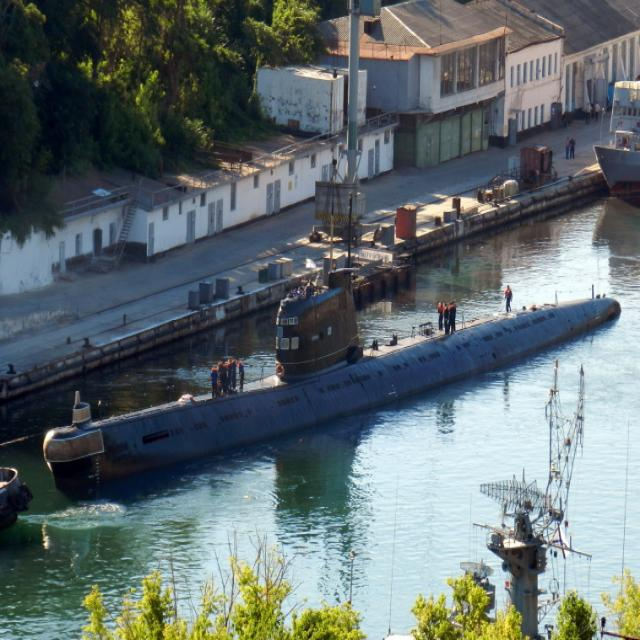submarine: (64, 238, 624, 506)
